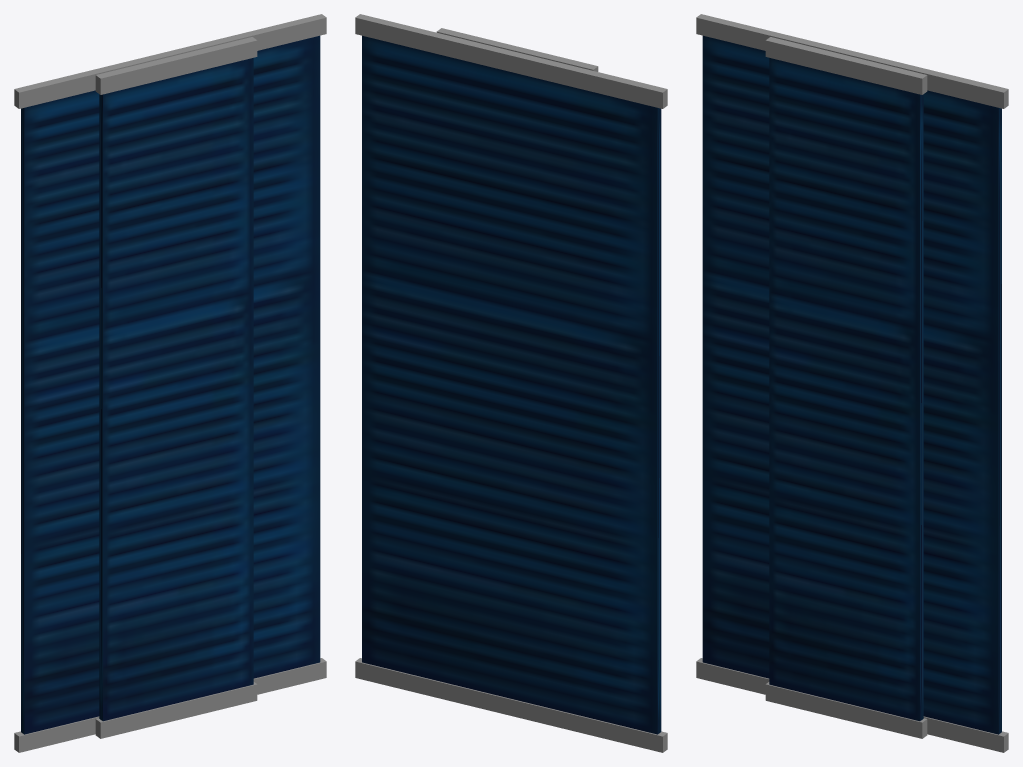
Rendered from BR_Glass_1.glb.
3 views of the same model, side by side, from view 1: azimuth 30°, elevation 25°; view 2: azimuth 150°, elevation 25°; view 3: azimuth 330°, elevation 25° (orthographic).
Visible parts, largest first — view 1: Glass 2, Glass metal; view 2: Glass 2, Glass metal; view 3: Glass 2, Glass metal.
Boxes of the visible parts, bbox=[...] form: Glass 2: bbox=[21, 35, 320, 734]; Glass metal: bbox=[14, 14, 326, 752]; Glass 2: bbox=[362, 35, 661, 734]; Glass metal: bbox=[355, 14, 667, 752]; Glass 2: bbox=[702, 35, 1001, 734]; Glass metal: bbox=[696, 14, 1008, 752].
Size of the model in its own units: 1.37 by 2.8 by 0.0845.
Materials: 2 (1 with a texture image).
